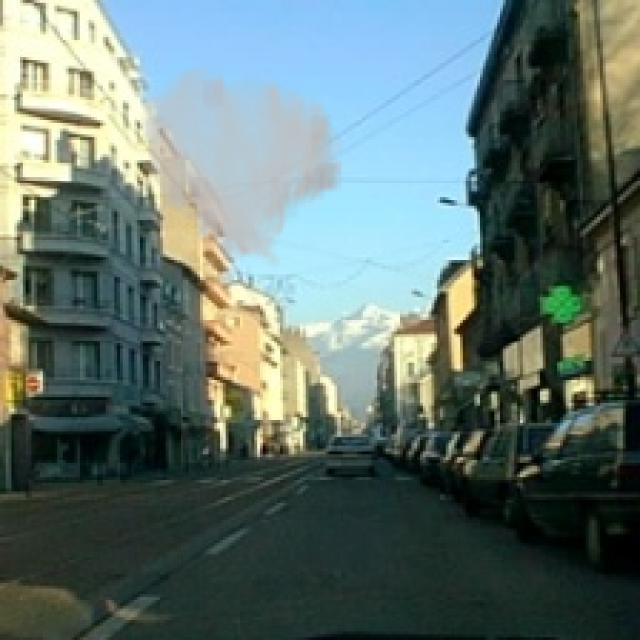Smoke: (140, 62, 346, 272)
